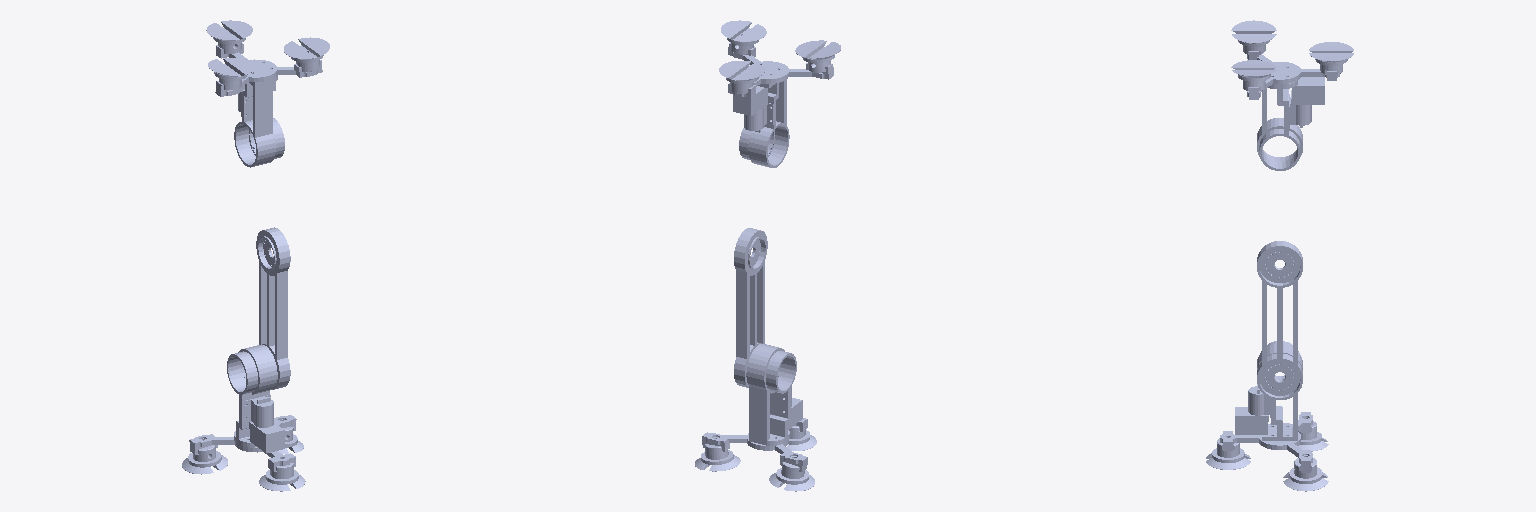
URDF robot description (bigmama0314):
<?xml version="1.0" encoding="utf-8" ?>
<!-- This URDF was automatically created by SolidWorks to URDF Exporter! Originally created by [author] ([email redacted]) 
     Commit Version: 1.6.0-1-g15f4949  Build Version: 1.6.7594.29634
     For more information, please see http://wiki.ros.org/sw_urdf_exporter -->
<robot name="bigmama0314">
    <link name="dummy" />

    <link name="Link_0">
        
<inertial>
            <origin xyz="-0.0037121 -0.0090866 0.031222" rpy="0 0 0" />
            <mass value="0.78659" />
            <inertia ixx="0.0014841" ixy="-1.2946E-05" ixz="1.4236E-05" iyy="0.0014419" iyz="-7.5325E-06" izz="0.0010174" />
        </inertial>

        <visual>
            <origin xyz="0 0 0" rpy="0 0 0" />
            <geometry>
                <mesh filename="package://bigmama0314/meshes/Link_0.STL" />
            </geometry>
            <material name="">
                <color rgba="0.79216 0.81961 0.93333 1" />
            </material>
        </visual>
        <collision>
            <origin xyz="0 0 0" rpy="0 0 0" />
            <geometry>
                <mesh filename="package://bigmama0314/meshes/Link_0.STL" />
            </geometry>
        </collision>
    </link>

    <joint name="dummy_joint" type="fixed">
        <parent link="dummy" />
        <child link="Link_0" />
    </joint>

    <link name="Link_1">
        
<inertial>
            <origin xyz="-6.6613E-16 0.12 0.014813" rpy="0 0 0" />
            <mass value="0.28238" />
            <inertia ixx="0.0027445" ixy="6.4192E-20" ixz="-6.9886E-21" iyy="0.00019508" iyz="-3.8408E-20" izz="0.0029159" />
        </inertial>

        <visual>
            <origin xyz="0 0 0" rpy="0 0 0" />
            <geometry>
                <mesh filename="package://bigmama0314/meshes/Link_1.STL" />
            </geometry>
            <material name="">
                <color rgba="0.79216 0.81961 0.93333 1" />
            </material>
        </visual>
        <collision>
            <origin xyz="0 0 0" rpy="0 0 0" />
            <geometry>
                <mesh filename="package://bigmama0314/meshes/Link_1.STL" />
            </geometry>
        </collision>
    </link>
    <joint name="Joint_1" type="revolute">
        <origin xyz="0.022 0 0.155" rpy="1.5708 0 1.5708" />
        <parent link="Link_0" />
        <child link="Link_1" />
        <axis xyz="0 0 -1" />
        <limit lower="-3.14" upper="3.14" effort="100" velocity="0.25" />
    </joint>
    <link name="Link_2">
        
<inertial>
            <origin xyz="0 0.098184 -0.051898" rpy="0 0 0" />
            <mass value="0.34516" />
            <inertia ixx="0.0036332" ixy="3.2681E-18" ixz="-4.5328E-19" iyy="0.00034405" iyz="0.00024115" izz="0.0037914" />
        </inertial>

        <visual>
            <origin xyz="0 0 0" rpy="0 0 0" />
            <geometry>
                <mesh filename="package://bigmama0314/meshes/Link_2.STL" />
            </geometry>
            <material name="">
                <color rgba="0.79216 0.81961 0.93333 1" />
            </material>
        </visual>
        <collision>
            <origin xyz="0 0 0" rpy="0 0 0" />
            <geometry>
                <mesh filename="package://bigmama0314/meshes/Link_2.STL" />
            </geometry>
        </collision>
    </link>
    <joint name="Joint_2" type="revolute">
        <origin xyz="0 0.24 0" rpy="0 0 0" />
        <parent link="Link_1" />
        <child link="Link_2" />
        <axis xyz="0 0 -1" />
        <limit lower="-3.14" upper="3.14" effort="100" velocity="0.25" />
    </joint>
    <link name="Link_3">
        
<inertial>
            <origin xyz="0.018256 0.077688 0.029219" rpy="0 0 0" />
            <mass value="0.40524" />
            <inertia ixx="0.0010067" ixy="-1.0212E-05" ixz="-1.2958E-05" iyy="0.00027741" iyz="1.4235E-05" izz="0.0011025" />
        </inertial>

        <visual>
            <origin xyz="0 0 0" rpy="0 0 0" />
            <geometry>
                <mesh filename="package://bigmama0314/meshes/Link_3.STL" />
            </geometry>
            <material name="">
                <color rgba="0.79216 0.81961 0.93333 1" />
            </material>
        </visual>
        <collision>
            <origin xyz="0 0 0" rpy="0 0 0" />
            <geometry>
                <mesh filename="package://bigmama0314/meshes/Link_3.STL" />
            </geometry>
        </collision>
    </link>
    <joint name="Joint_3" type="revolute">
        <origin xyz="0 0.24 -0.0442" rpy="0 0 0" />
        <parent link="Link_2" />
        <child link="Link_3" />
        <axis xyz="0 0 1" />
        <limit lower="-3.14" upper="3.14" effort="100" velocity="0.25" />
    </joint>
    <link name="Link_4">
        
<inertial>
            <origin xyz="-0.030985 -2.1176E-05 -0.025584" rpy="0 0 0" />
            <mass value="0.29314" />
            <inertia ixx="0.00039725" ixy="1.2499E-08" ixz="-2.474E-06" iyy="0.00034787" iyz="7.2147E-09" izz="0.00069279" />
        </inertial>

        <visual>
            <origin xyz="0 0 0" rpy="0 0 0" />
            <geometry>
                <mesh filename="package://bigmama0314/meshes/Link_4.STL" />
            </geometry>
            <material name="">
                <color rgba="0.79216 0.81961 0.93333 1" />
            </material>
        </visual>
        <collision>
            <origin xyz="0 0 0" rpy="0 0 0" />
            <geometry>
                <mesh filename="package://bigmama0314/meshes/Link_4.STL" />
            </geometry>
        </collision>
    </link>
    <joint name="Joint_4" type="revolute">
        <origin xyz="0 0.145 0.022" rpy="1.5708 0 0" />
        <parent link="Link_3" />
        <child link="Link_4" />
        <axis xyz="0 0 -1" />
        <limit lower="0" upper="0.0001" effort="0" velocity="0" />
        <dynamics damping="10" friction="10" />
    </joint>
    <link name="Link_forwardsucker">
        
<inertial>
            <origin xyz="0.00021444 -4.3723E-08 -0.00013148" rpy="0 0 0" />
            <mass value="0.088134" />
            <inertia ixx="3.7615E-05" ixy="4.0865E-11" ixz="-1.9138E-07" iyy="3.3338E-05" iyz="-3.6828E-11" izz="4.7149E-05" />
        </inertial>

        <visual>
            <origin xyz="0 0 0" rpy="0 0 0" />
            <geometry>
                <mesh filename="package://bigmama0314/meshes/Link_forwardsucker.STL" />
            </geometry>
            <material name="">
                <color rgba="0.79216 0.81961 0.93333 1" />
            </material>
        </visual>
        <collision>
            <origin xyz="0 0 0" rpy="0 0 0" />
            <geometry>
                <mesh filename="package://bigmama0314/meshes/Link_forwardsucker.STL" />
            </geometry>
        </collision>
    </link>
    <joint name="Joint_forwardsucker" type="revolute">
        <origin xyz="0.1 0 -0.035" rpy="0 0 0" />
        <parent link="Link_4" />
        <child link="Link_forwardsucker" />
        <axis xyz="0 0 -1" />
        <limit lower="0" upper="0.0001" effort="0" velocity="0" />
        <dynamics damping="10" friction="10" />
    </joint>
    <link name="Link_innerfinger">
        
<inertial>
            <origin xyz="0.0005 -3.9302E-14 0.0037772" rpy="0 0 0" />
            <mass value="0.0006032" />
            <inertia ixx="2.9694E-07" ixy="-9.7786E-25" ixz="1.0619E-25" iyy="3.2374E-09" iyz="-1.1145E-22" izz="2.938E-07" />
        </inertial>

        <visual>
            <origin xyz="0 0 0" rpy="0 0 0" />
            <geometry>
                <mesh filename="package://bigmama0314/meshes/Link_innerfinger.STL" />
            </geometry>
            <material name="">
                <color rgba="0.79216 0.81961 0.93333 1" />
            </material>
        </visual>
        <collision>
            <origin xyz="0 0 0" rpy="0 0 0" />
            <geometry>
                <mesh filename="package://bigmama0314/meshes/Link_innerfinger.STL" />
            </geometry>
        </collision>
    </link>
    <joint name="Joint_innerfinger" type="prismatic">
        <origin xyz="0 -0.006 -0.015" rpy="0 0 1.5708" />
        <parent link="Link_forwardsucker" />
        <child link="Link_innerfinger" />
        <axis xyz="-1 0 0" />
        <limit lower="-0.005" upper="0.005" effort="50" velocity="0.05" />
    </joint>
    <link name="Link_exterfinger">
        
<inertial>
            <origin xyz="-0.0005 -4.4742E-14 0.0037772" rpy="0 0 0" />
            <mass value="0.0006032" />
            <inertia ixx="2.9694E-07" ixy="1.6439E-24" ixz="-7.9781E-26" iyy="3.2374E-09" iyz="-5.7315E-24" izz="2.938E-07" />
        </inertial>

        <visual>
            <origin xyz="0 0 0" rpy="0 0 0" />
            <geometry>
                <mesh filename="package://bigmama0314/meshes/Link_exterfinger.STL" />
            </geometry>
            <material name="">
                <color rgba="0.79216 0.81961 0.93333 1" />
            </material>
        </visual>
        <collision>
            <origin xyz="0 0 0" rpy="0 0 0" />
            <geometry>
                <mesh filename="package://bigmama0314/meshes/Link_exterfinger.STL" />
            </geometry>
        </collision>
    </link>
    <joint name="Joint_exterfinger" type="prismatic">
        <origin xyz="0 0.006 -0.015" rpy="0 0 1.5708" />
        <parent link="Link_forwardsucker" />
        <child link="Link_exterfinger" />
        <axis xyz="-1 0 0" />
        <limit lower="-0.005" upper="0.005" effort="50" velocity="0.05" />
    </joint>
    
<transmission name="trans_Joint_1">
        <type>transmission_interface/SimpleTransmission</type>
        <joint name="Joint_1">
            <hardwareInterface>hardware_interface/PositionJointInterface</hardwareInterface>
        </joint>
        <actuator name="Joint_1_motor">
            <hardwareInterface>hardware_interface/PositionJointInterface</hardwareInterface>
            <mechanicalReduction>1</mechanicalReduction>
        </actuator>
    </transmission>
    <transmission name="trans_Joint_2">
        <type>transmission_interface/SimpleTransmission</type>
        <joint name="Joint_2">
            <hardwareInterface>hardware_interface/PositionJointInterface</hardwareInterface>
        </joint>
        <actuator name="Joint_2_motor">
            <hardwareInterface>hardware_interface/PositionJointInterface</hardwareInterface>
            <mechanicalReduction>1</mechanicalReduction>
        </actuator>
    </transmission>
    <transmission name="trans_Joint_3">
        <type>transmission_interface/SimpleTransmission</type>
        <joint name="Joint_3">
            <hardwareInterface>hardware_interface/PositionJointInterface</hardwareInterface>
        </joint>
        <actuator name="Joint_3_motor">
            <hardwareInterface>hardware_interface/PositionJointInterface</hardwareInterface>
            <mechanicalReduction>1</mechanicalReduction>
        </actuator>
    </transmission>
    <transmission name="trans_Joint_4">
        <type>transmission_interface/SimpleTransmission</type>
        <joint name="Joint_4">
            <hardwareInterface>hardware_interface/EffortJointInterface</hardwareInterface>
        </joint>
        <actuator name="Joint_4_motor">
            <hardwareInterface>hardware_interface/EffortJointInterface</hardwareInterface>
            <mechanicalReduction>1</mechanicalReduction>
        </actuator>
    </transmission>
    <transmission name="trans_Joint_forwardsucker">
        <type>transmission_interface/SimpleTransmission</type>
        <joint name="Joint_forwardsucker">
            <hardwareInterface>hardware_interface/EffortJointInterface</hardwareInterface>
        </joint>
        <actuator name="Joint_forwardsucker_motor">
            <hardwareInterface>hardware_interface/EffortJointInterface</hardwareInterface>
            <mechanicalReduction>1</mechanicalReduction>
        </actuator>
    </transmission>
    <transmission name="trans_Joint_innerfinger">
        <type>transmission_interface/SimpleTransmission</type>
        <joint name="Joint_innerfinger">
            <hardwareInterface>hardware_interface/EffortJointInterface</hardwareInterface>
        </joint>
        <actuator name="Joint_innerfinger_motor">
            <hardwareInterface>hardware_interface/EffortJointInterface</hardwareInterface>
            <mechanicalReduction>1</mechanicalReduction>
        </actuator>
    </transmission>
    <transmission name="trans_Joint_exterfinger">
        <type>transmission_interface/SimpleTransmission</type>
        <joint name="Joint_exterfinger">
            <hardwareInterface>hardware_interface/EffortJointInterface</hardwareInterface>
        </joint>
        <actuator name="Joint_exterfinger_motor">
            <hardwareInterface>hardware_interface/EffortJointInterface</hardwareInterface>
            <mechanicalReduction>1</mechanicalReduction>
        </actuator>
    </transmission>
    <gazebo reference="Link_4">
        <material>Gazebo/Yellow</material>
        <mu1>0.9</mu1>
        <mu2>0.9</mu2>
        <fdir1>1 0 0</fdir1>
    </gazebo>
    <gazebo reference="Link_forwardsucker">
        <material>Gazebo/Orange</material>
        <mu1>5</mu1>
        <mu2>5</mu2>
        <fdir1>1 0 0</fdir1>
    </gazebo>
    <gazebo reference="Link_innerfinger">
        <material>Gazebo/Red</material>
        <mu1>0.5</mu1>
        <mu2>0.5</mu2>
        <fdir1>1 0 0</fdir1>        
    </gazebo>
    <gazebo reference="Link_exterfinger">
        <material>Gazebo/Red</material>
        <mu1>0.5</mu1>
        <mu2>0.5</mu2>
        <fdir1>1 0 0</fdir1>
    </gazebo>
    <gazebo reference="Link_0">
        <material>Gazebo/Green</material>
        <mu1>0.9</mu1>
        <mu2>0.9</mu2>
        <fdir1>1 0 0</fdir1>
    </gazebo>
    <gazebo>
     <plugin name="gazebo_grasp_fix" filename="libgazebo_grasp_fix.so">
           <arm>
             <arm_name>arm_bigmama</arm_name>
             <palm_link>Link_forwardsucker</palm_link>
             <gripper_link>Link_innerfinger</gripper_link>
             <gripper_link>Link_exterfinger</gripper_link>
           </arm>
       <forces_angle_tolerance>150</forces_angle_tolerance>
       <update_rate>130</update_rate>
       <grip_count_threshold>2</grip_count_threshold>
       <max_grip_count>8</max_grip_count>
       <release_tolerance>0.01</release_tolerance>
       <disable_collisions_on_attach>true</disable_collisions_on_attach>
       <contact_topic>__default_topic__</contact_topic>
     </plugin>
    </gazebo>
    <gazebo>
        <plugin name="gazebo_ros_control" filename="libgazebo_ros_control.so">
            <robotNamespace>/</robotNamespace>
        </plugin>
    </gazebo>
</robot>

--- Facts derived from the render (not from the file) ---
Views: 3 orthographic renders of the robot side by side, from view 1: azimuth 30°, elevation 25°; view 2: azimuth 150°, elevation 25°; view 3: azimuth 270°, elevation 25°.
Robot: bigmama0314 — 9 links, 8 joints (5 revolute, 2 prismatic, 1 fixed); root link dummy; default pose: every joint at zero.
Visible links, largest first — view 1: Link_0, Link_1, Link_4, Link_3, Link_forwardsucker; view 2: Link_0, Link_1, Link_3, Link_4, Link_forwardsucker; view 3: Link_0, Link_1, Link_3, Link_4, Link_forwardsucker.
Boxes of the visible links, box(x1,y1,x2,y2) form: Link_0: box(182, 344, 305, 491); Link_1: box(256, 227, 290, 389); Link_4: box(208, 37, 329, 96); Link_3: box(234, 75, 284, 167); Link_forwardsucker: box(206, 20, 252, 53); Link_0: box(695, 344, 816, 491); Link_1: box(734, 228, 767, 387); Link_3: box(733, 80, 789, 167); Link_4: box(721, 20, 840, 98); Link_forwardsucker: box(719, 61, 764, 93); Link_0: box(1206, 341, 1328, 491); Link_1: box(1257, 241, 1302, 399); Link_3: box(1257, 77, 1324, 170); Link_4: box(1231, 20, 1339, 99); Link_forwardsucker: box(1309, 42, 1353, 74).
Bounding box of the posed robot: 0.2553 × 0.2882 × 0.8854 m (x, y, z).
7 mesh visuals loaded from 8 distinct referenced files (7 binary STL); not drawn: 1 (reference not matched to a file when rendering).
